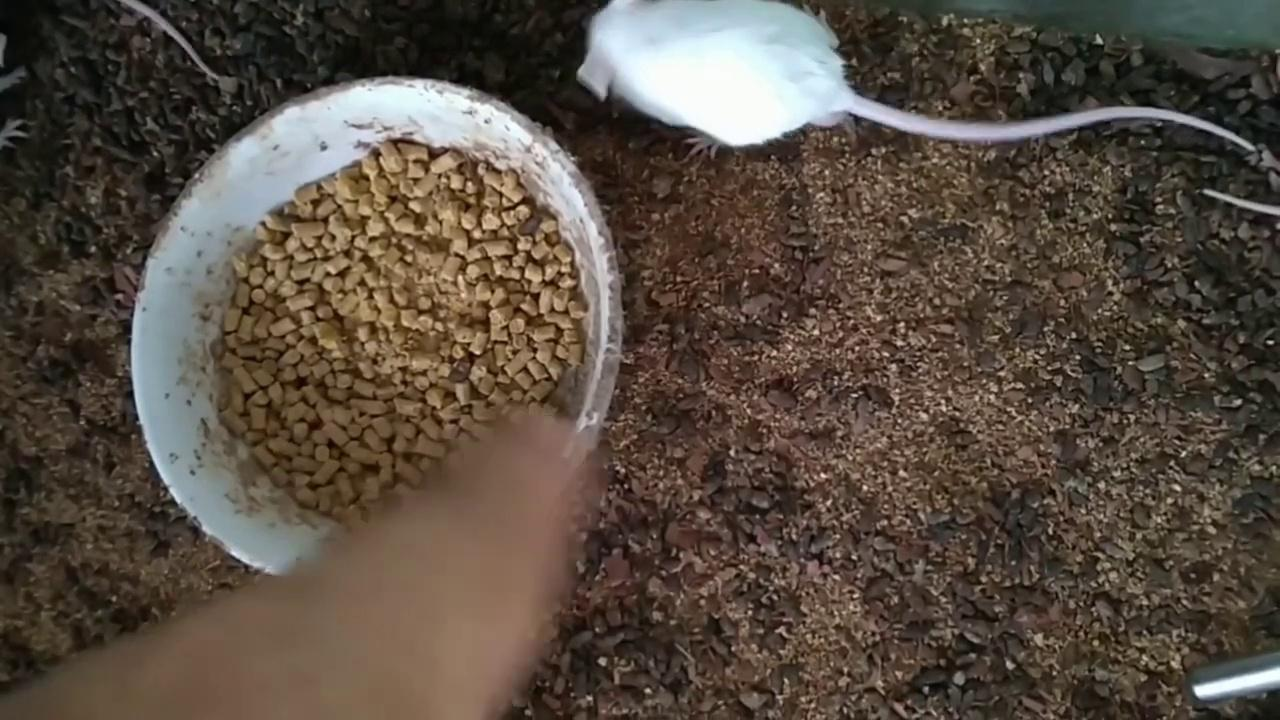rat: (579, 0, 1259, 164)
